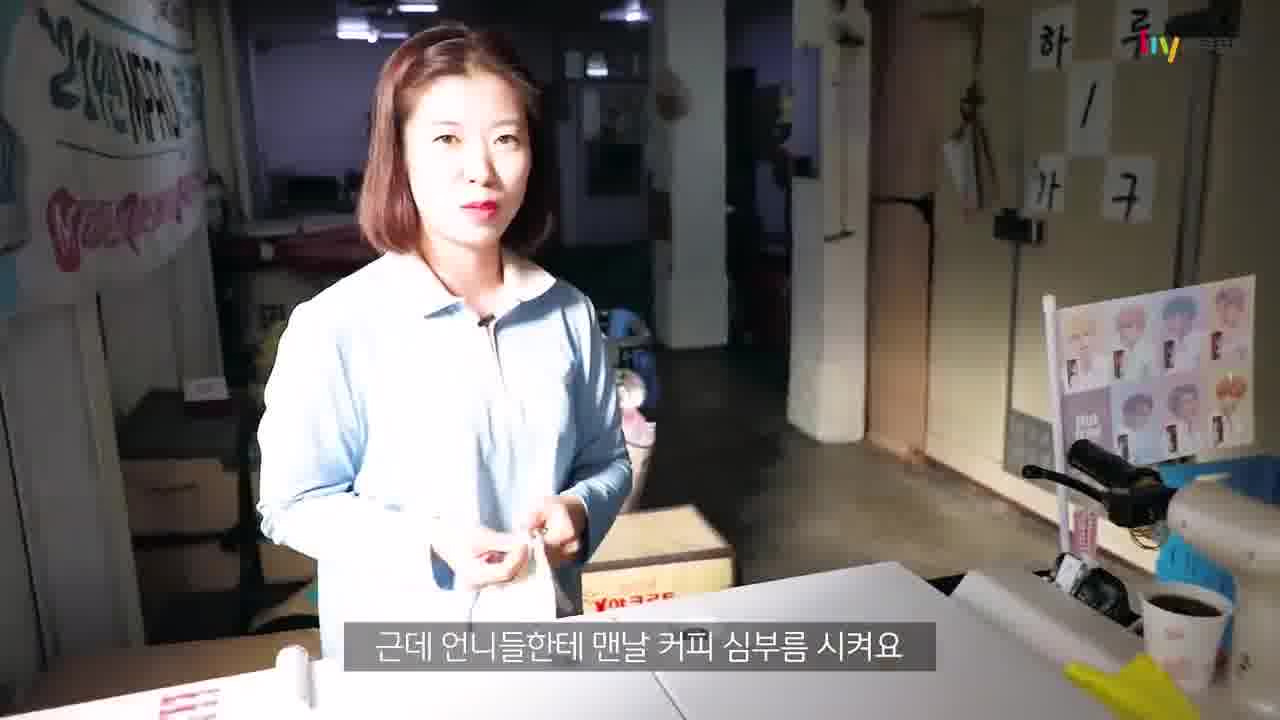Yakurut: (236, 11, 685, 666)
